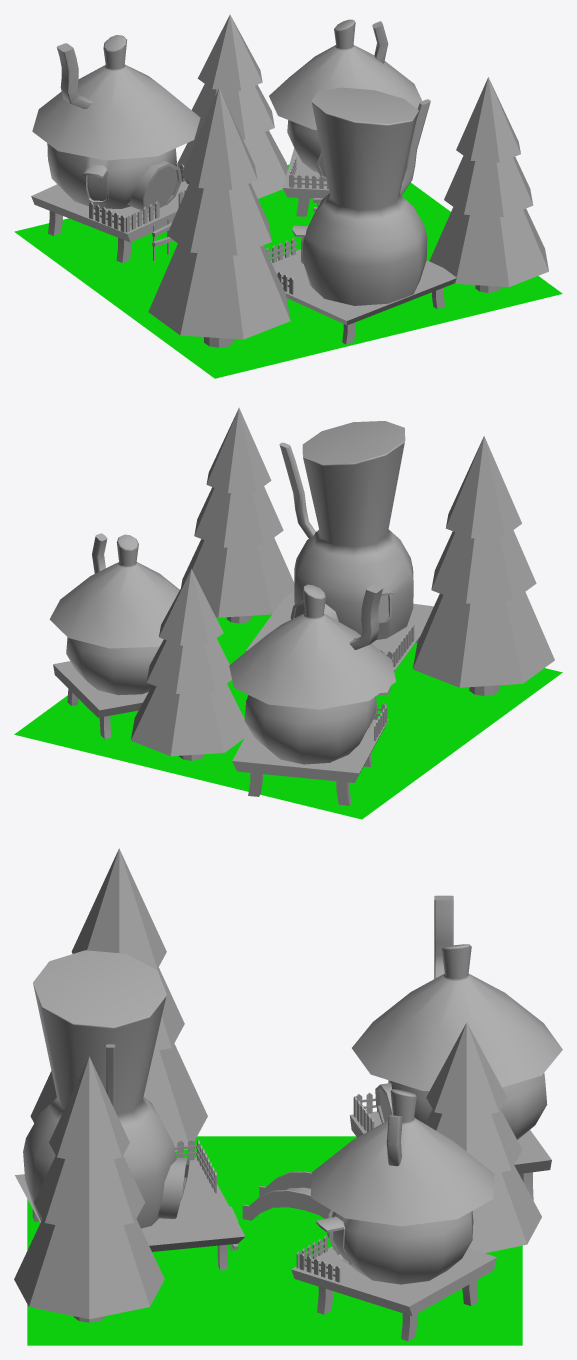
The model's file is PlotGround.fbx.
The picture shows the model from 3 angles, top to bottom: view 1: azimuth 30°, elevation 25°; view 2: azimuth 150°, elevation 25°; view 3: azimuth 270°, elevation 25°; orthographic projection. The views are drawn at different scales.
Parts seen in each view (by area): view 1: floor, TallHous, TallTree, SmallHOuse2, Tree1, SmallHouse1, MediumTree, SmallHouseBase3, TallHousBase1, SmallHouseBase1; view 2: floor, TallTree, TallHous, SmallHOuse2, Tree1, MediumTree, SmallHouse1, SmallHouseBase3, SmallHouseBase1, TallHousBase1; view 3: floor, TallHous, Tree1, SmallHouse1, SmallHOuse2, MediumTree, TallTree, SmallHouseBase1, TallHousBase1, Bridge, SmallHouseBase3.
Part boxes in pixels (left/top/right/bottom): floor: left=14, top=164, right=562, bottom=378; TallHous: left=292, top=87, right=430, bottom=305; TallTree: left=148, top=87, right=290, bottom=347; SmallHOuse2: left=32, top=35, right=200, bottom=213; Tree1: left=429, top=77, right=548, bottom=292; SmallHouse1: left=269, top=19, right=421, bottom=179; MediumTree: left=177, top=14, right=287, bottom=198; SmallHouseBase3: left=31, top=163, right=189, bottom=262; TallHousBase1: left=266, top=237, right=457, bottom=344; SmallHouseBase1: left=283, top=148, right=329, bottom=216; floor: left=14, top=614, right=562, bottom=819; TallTree: left=413, top=436, right=554, bottom=695; TallHous: left=279, top=421, right=413, bottom=639; SmallHOuse2: left=229, top=584, right=396, bottom=764; Tree1: left=181, top=407, right=294, bottom=623; MediumTree: left=130, top=569, right=249, bottom=760; SmallHouse1: left=49, top=533, right=179, bottom=695; SmallHouseBase3: left=232, top=703, right=388, bottom=805; SmallHouseBase1: left=53, top=661, right=148, bottom=738; TallHousBase1: left=246, top=591, right=433, bottom=694; floor: left=27, top=1136, right=522, bottom=1345; TallHous: left=23, top=950, right=189, bottom=1228; Tree1: left=14, top=1056, right=164, bottom=1322; SmallHouse1: left=310, top=1089, right=494, bottom=1284; SmallHOuse2: left=352, top=895, right=562, bottom=1139; MediumTree: left=425, top=1022, right=541, bottom=1253; TallTree: left=30, top=848, right=207, bottom=1151; SmallHouseBase1: left=291, top=1235, right=496, bottom=1341; TallHousBase1: left=15, top=1139, right=245, bottom=1270; Bridge: left=242, top=1171, right=331, bottom=1220; SmallHouseBase3: left=350, top=1092, right=551, bottom=1200.
Bounding box in the file's own units: 106 × 70.73 × 111.
